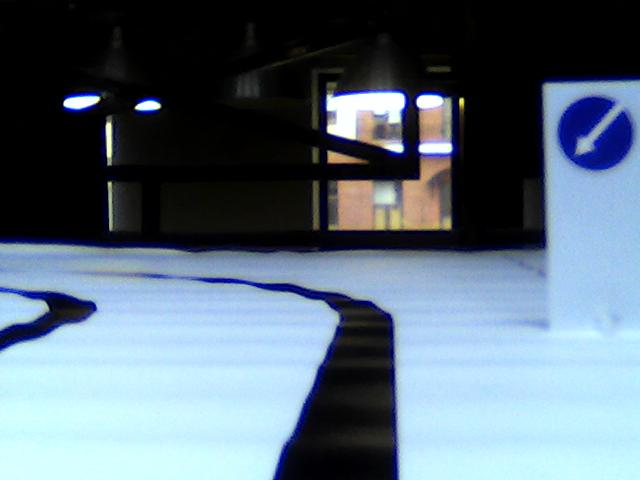prep: (557, 93, 635, 171)
